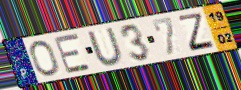3: (119, 22, 152, 63)
7: (150, 16, 176, 58)
E: (53, 32, 93, 75)
O: (29, 39, 61, 77)
U: (85, 26, 127, 67)
Z: (177, 12, 217, 53)
